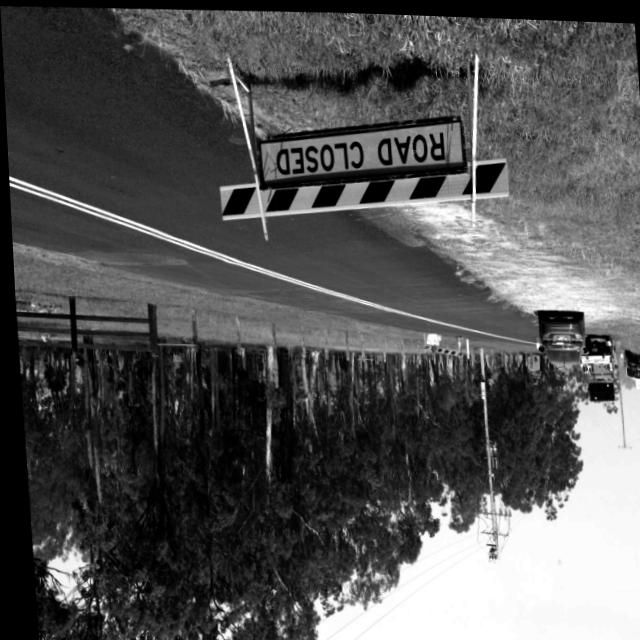cleat: (0, 6, 633, 390)
